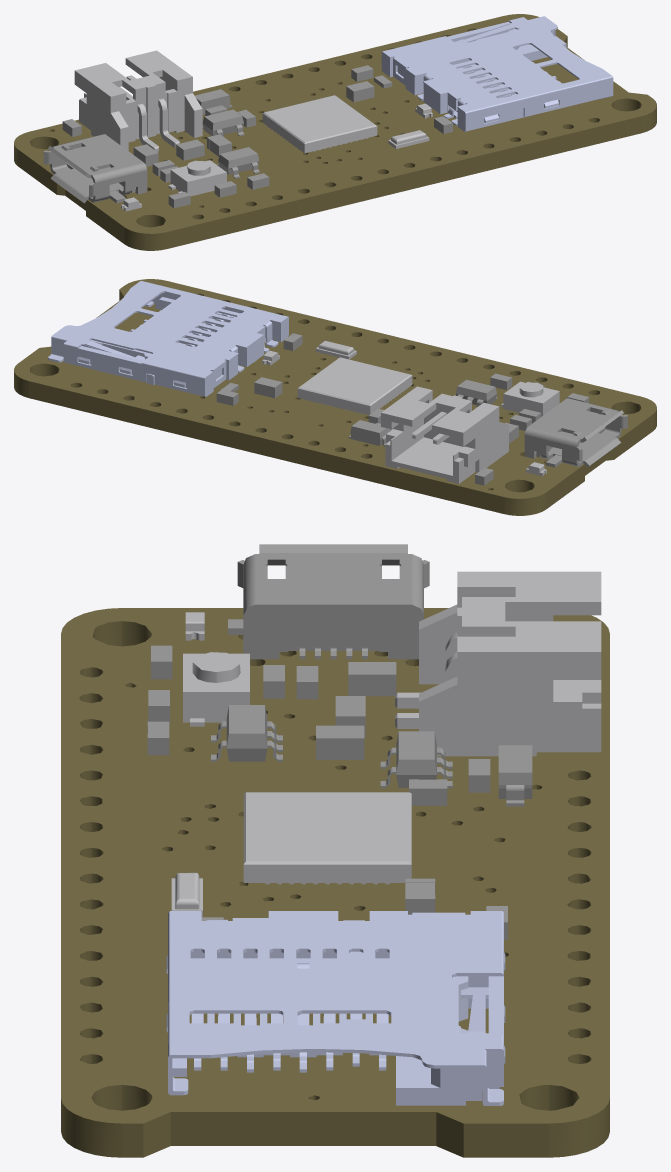
File: ada-2795.glb
3 views of the same model, one above another, from view 1: azimuth 30°, elevation 25°; view 2: azimuth 150°, elevation 25°; view 3: azimuth 270°, elevation 25° (orthographic). The views are drawn at different scales.
Visible parts, largest first — view 1: 0.16666666666666666_0.16666666666666666_0.08333333333333333_, 0.5833333333333334_0.6666666666666666_0.8333333333333334_0, 0.5833333333333334_0.5833333333333334_0.5833333333333334_0.8, 0.3333333333333333_0.3333333333333333_0.3333333333333333_0; view 2: 0.16666666666666666_0.16666666666666666_0.08333333333333333_, 0.5833333333333334_0.6666666666666666_0.8333333333333334_0, 0.5833333333333334_0.5833333333333334_0.5833333333333334_0.8, 0.3333333333333333_0.3333333333333333_0.3333333333333333_0; view 3: 0.16666666666666666_0.16666666666666666_0.08333333333333333_, 0.5833333333333334_0.6666666666666666_0.8333333333333334_0, 0.5833333333333334_0.5833333333333334_0.5833333333333334_0.8, 0.3333333333333333_0.3333333333333333_0.3333333333333333_0.
Part boxes in pixels (x1,y1,x2,y2): 0.16666666666666666_0.16666666666666666_0.08333333333333333_: (14, 14, 656, 250); 0.5833333333333334_0.6666666666666666_0.8333333333333334_0: (381, 16, 613, 131); 0.5833333333333334_0.5833333333333334_0.5833333333333334_0.8: (74, 50, 432, 211); 0.3333333333333333_0.3333333333333333_0.3333333333333333_0: (43, 65, 452, 208); 0.16666666666666666_0.16666666666666666_0.08333333333333333_: (14, 279, 656, 515); 0.5833333333333334_0.6666666666666666_0.8333333333333334_0: (48, 281, 288, 396); 0.5833333333333334_0.5833333333333334_0.5833333333333334_0.8: (262, 340, 559, 483); 0.3333333333333333_0.3333333333333333_0.3333333333333333_0: (216, 333, 627, 485); 0.16666666666666666_0.16666666666666666_0.08333333333333333_: (61, 608, 609, 1157); 0.5833333333333334_0.6666666666666666_0.8333333333333334_0: (166, 911, 505, 1105); 0.5833333333333334_0.5833333333333334_0.5833333333333334_0.8: (171, 571, 601, 917); 0.3333333333333333_0.3333333333333333_0.3333333333333333_0: (147, 544, 532, 939).
Bounding box in the file's own units: 5.13 × 0.6369 × 2.29.
